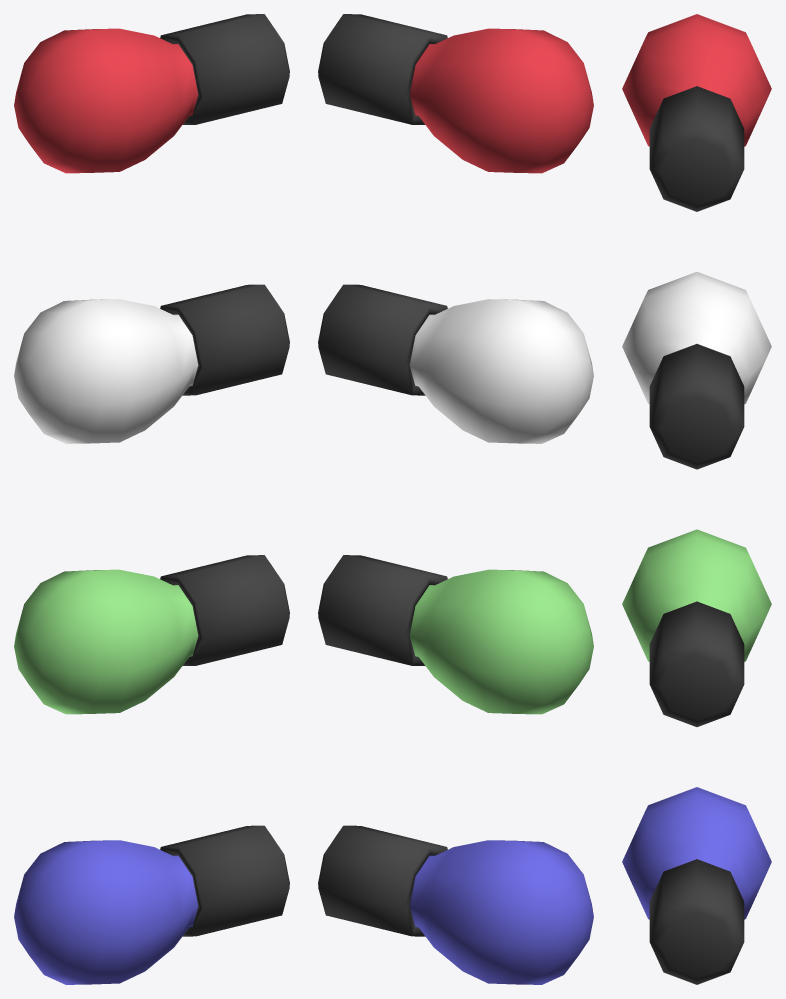
Rendered from lightchain_01_mockup.fbx.
3 renders of one model, left to right at view 1: azimuth 30°, elevation 25°; view 2: azimuth 150°, elevation 25°; view 3: azimuth 270°, elevation 25°, orthographic. The views are drawn at different scales.
Visible parts, largest first — view 1: lightchain_01, buld_01, bulb_03, bulb_04, bulb_02; view 2: lightchain_01, buld_01, bulb_03, bulb_04, bulb_02; view 3: lightchain_01, bulb_04, buld_01, bulb_02, bulb_03.
Boxes of the visible parts, <box> form: lightchain_01: <box>160,14,289,936</box>; buld_01: <box>14,840,198,984</box>; bulb_03: <box>14,299,198,443</box>; bulb_04: <box>14,28,198,173</box>; bulb_02: <box>14,569,198,714</box>; lightchain_01: <box>318,14,447,936</box>; buld_01: <box>409,840,593,984</box>; bulb_03: <box>409,299,593,443</box>; bulb_04: <box>409,28,593,173</box>; bulb_02: <box>409,569,593,714</box>; lightchain_01: <box>649,86,744,984</box>; bulb_04: <box>622,14,771,146</box>; buld_01: <box>622,787,771,919</box>; bulb_02: <box>622,529,771,661</box>; bulb_03: <box>622,272,771,404</box>.
Bounding box in the file's own units: 0.1433 × 0.0791 × 0.5291.
